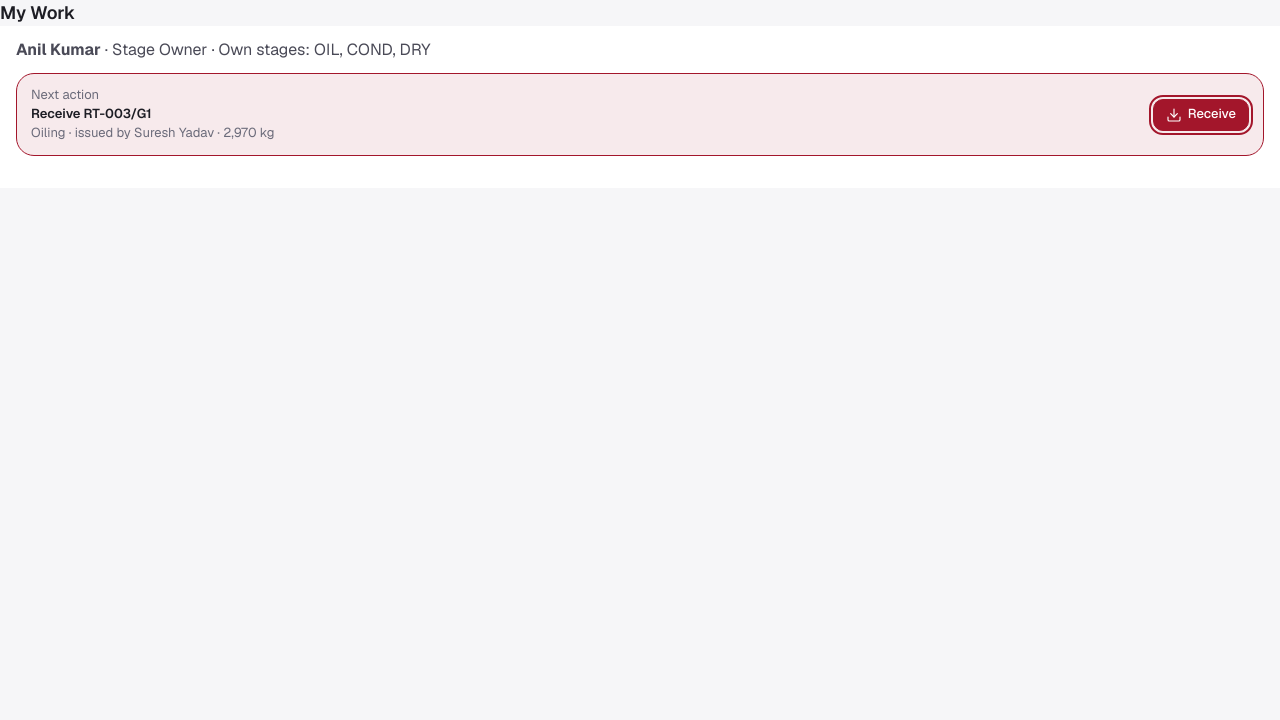
Test case: keyboard and focus on action forms › opening an action form moves focus inside; Escape closes it and returns focus to the button
This screenshot has width=1280, height=720.
Click the button "Receive". click: [1201, 114]
box: [1153,98,1249,130]
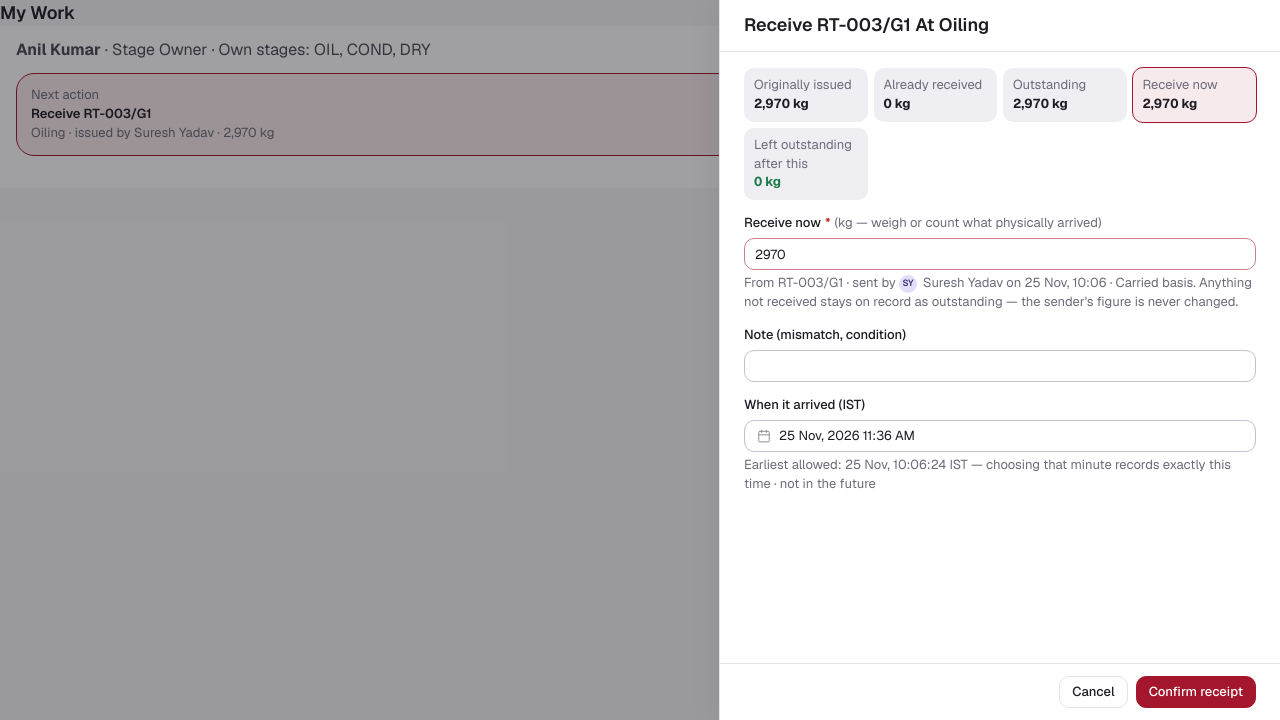
Check: the dialog is shown, box [720,0,1279,719]
Press Escape
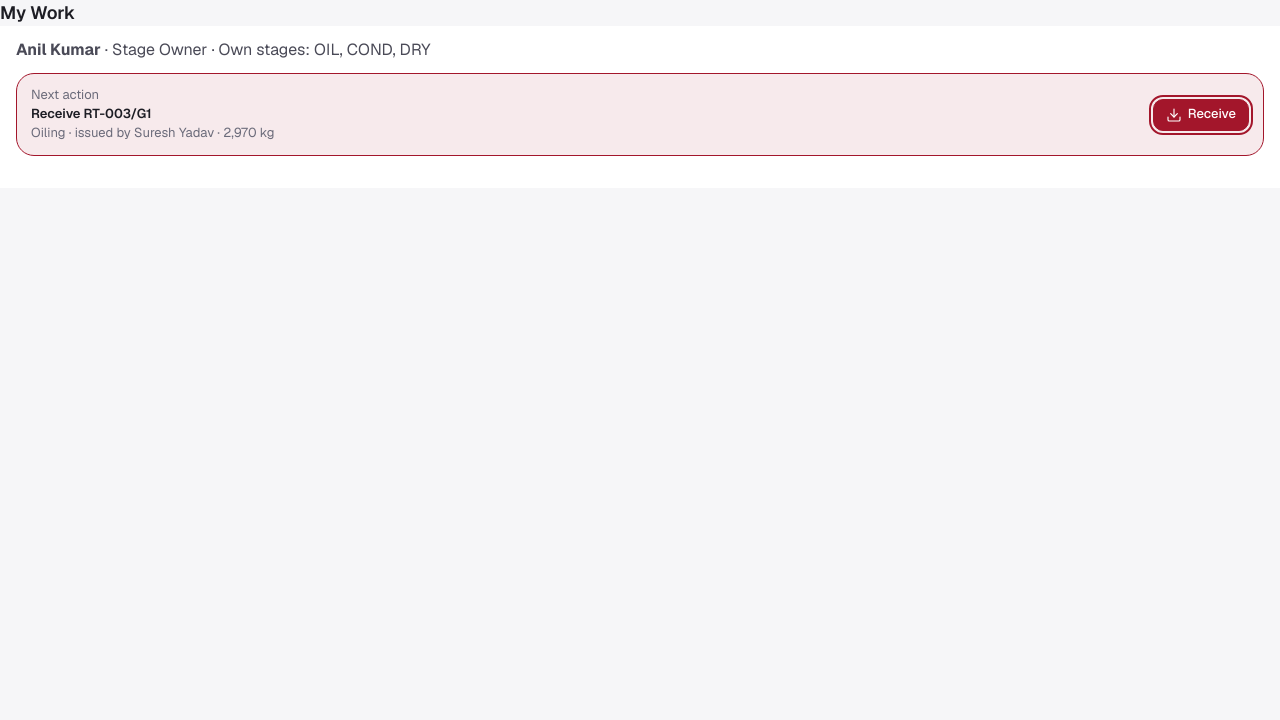
Check: the button "25 Nov, 2026 11:36 AM" is gone
